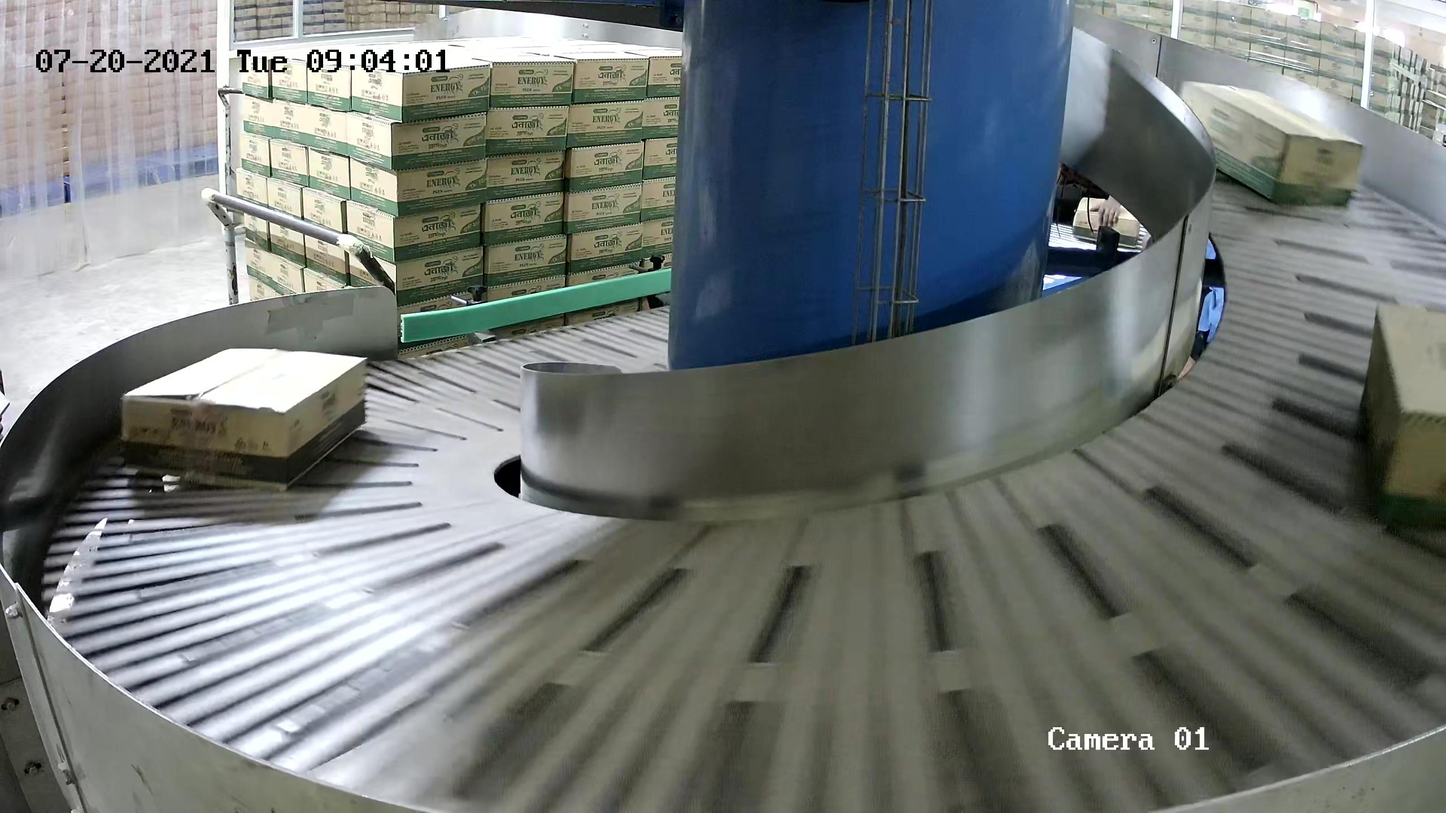Box: (119, 346, 369, 492), (1177, 79, 1365, 206), (1358, 302, 1446, 526)
